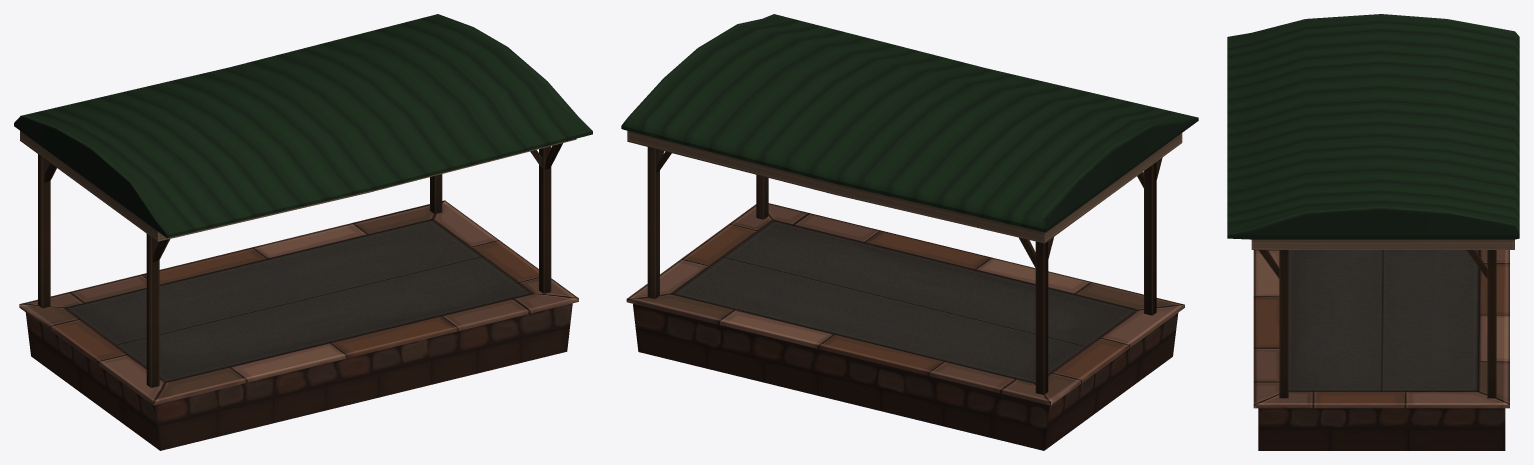
Rendered from Station.fbx.
3 renders of one model, left to right at view 1: azimuth 30°, elevation 25°; view 2: azimuth 150°, elevation 25°; view 3: azimuth 270°, elevation 25°, orthographic. The views are drawn at different scales.
Visible parts, largest first — view 1: StationPlatform, StationPlatform1, SupportBeam1 (×3); view 2: StationPlatform, StationPlatform1, SupportBeam1 (×3); view 3: StationPlatform1, StationPlatform, SupportBeam1 (×2).
Boxes of the visible parts, x1,y1,x2,y2 form: StationPlatform: (19,200,578,450); StationPlatform1: (14,14,592,241); SupportBeam1 (×3): (38,146,551,387); StationPlatform: (626,203,1184,450); StationPlatform1: (621,14,1198,243); SupportBeam1 (×3): (647,147,1156,394); StationPlatform1: (1227,14,1519,249); StationPlatform: (1253,250,1509,450); SupportBeam1 (×2): (1279,250,1496,398).
Size of the model in its own units: 65.06 by 37.42 by 40.52.
